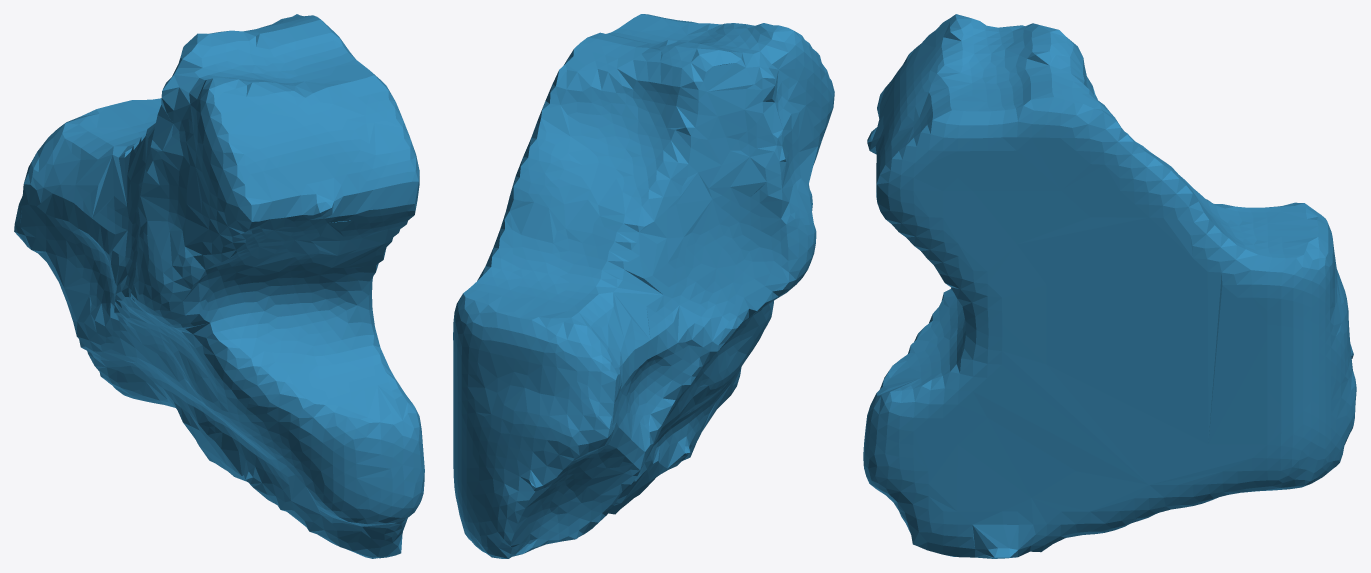
File: Model_10061_LH__Area_25_of_cortex_(A25).obj
3 renders of one model, left to right at view 1: azimuth 30°, elevation 25°; view 2: azimuth 150°, elevation 25°; view 3: azimuth 270°, elevation 25°, orthographic. The views are drawn at different scales.
Bounding box in the file's own units: 1.69 × 3.56 × 3.35.
